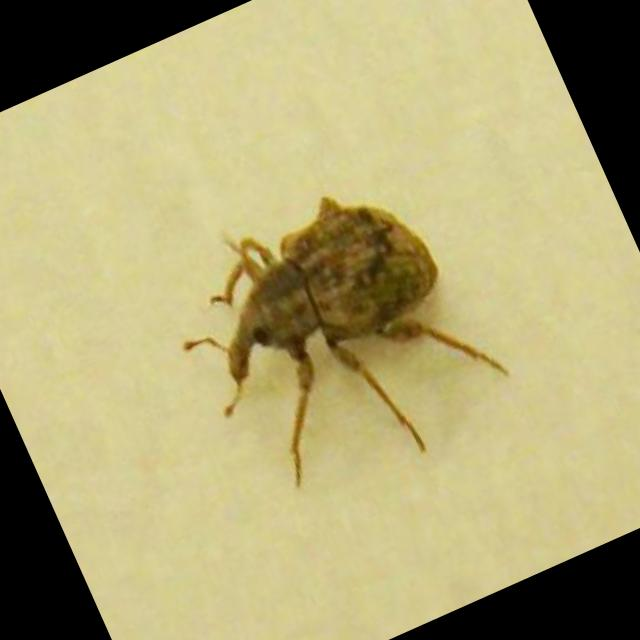rice-bug: (179, 165, 484, 462)
